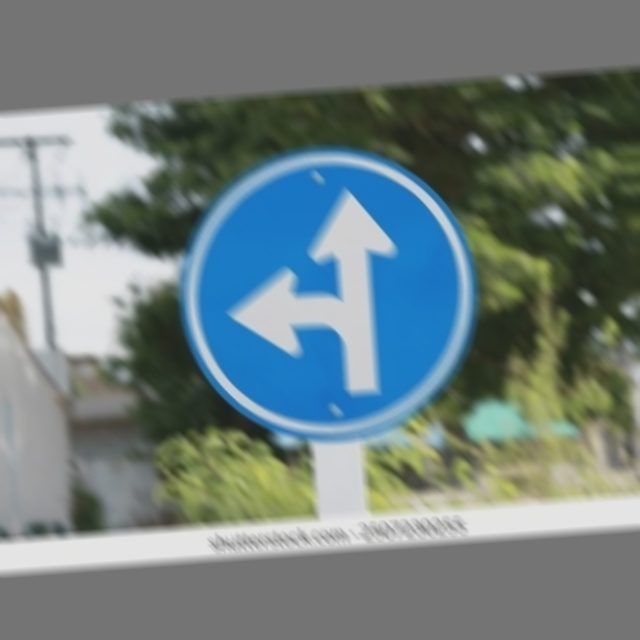Compulsory_Ahead_or_Turn_Left: (168, 143, 481, 447)
